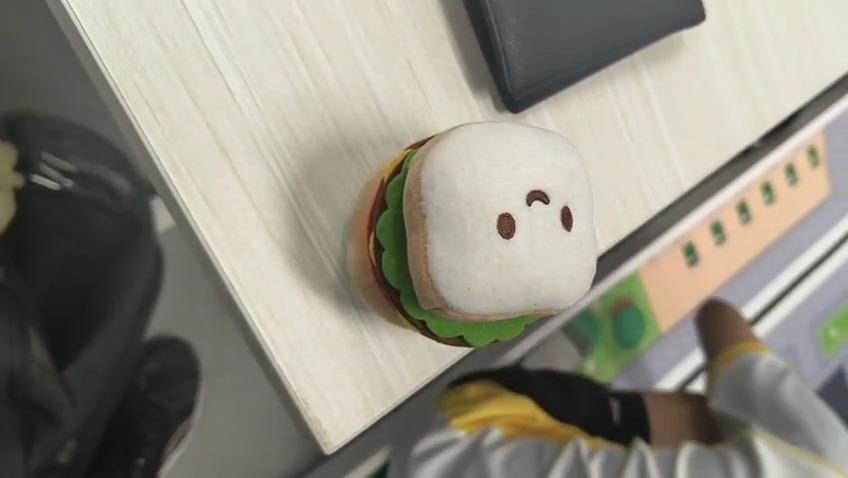objects: (349, 119, 600, 361)
